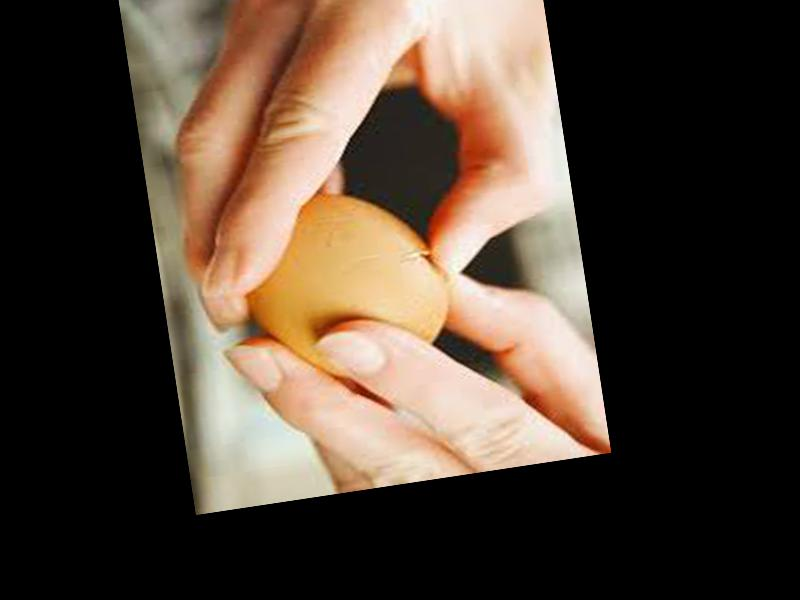Eggs: (230, 178, 460, 392)
